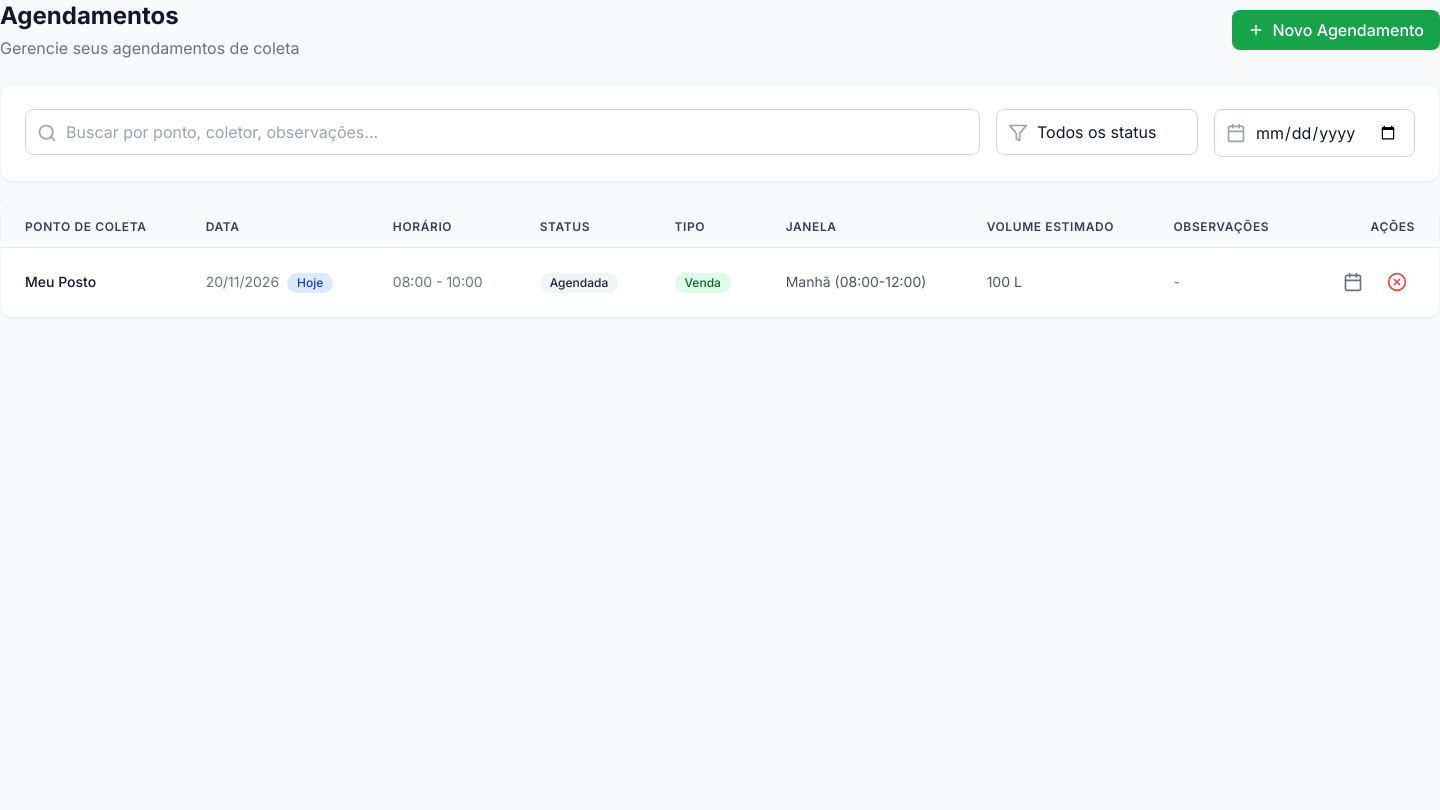
SchedulesPage › for ESTABLISHMENT role › shows saleType field for establishment
Click the button "Novo Agendamento": (1336, 30) [1232,10,1439,50]
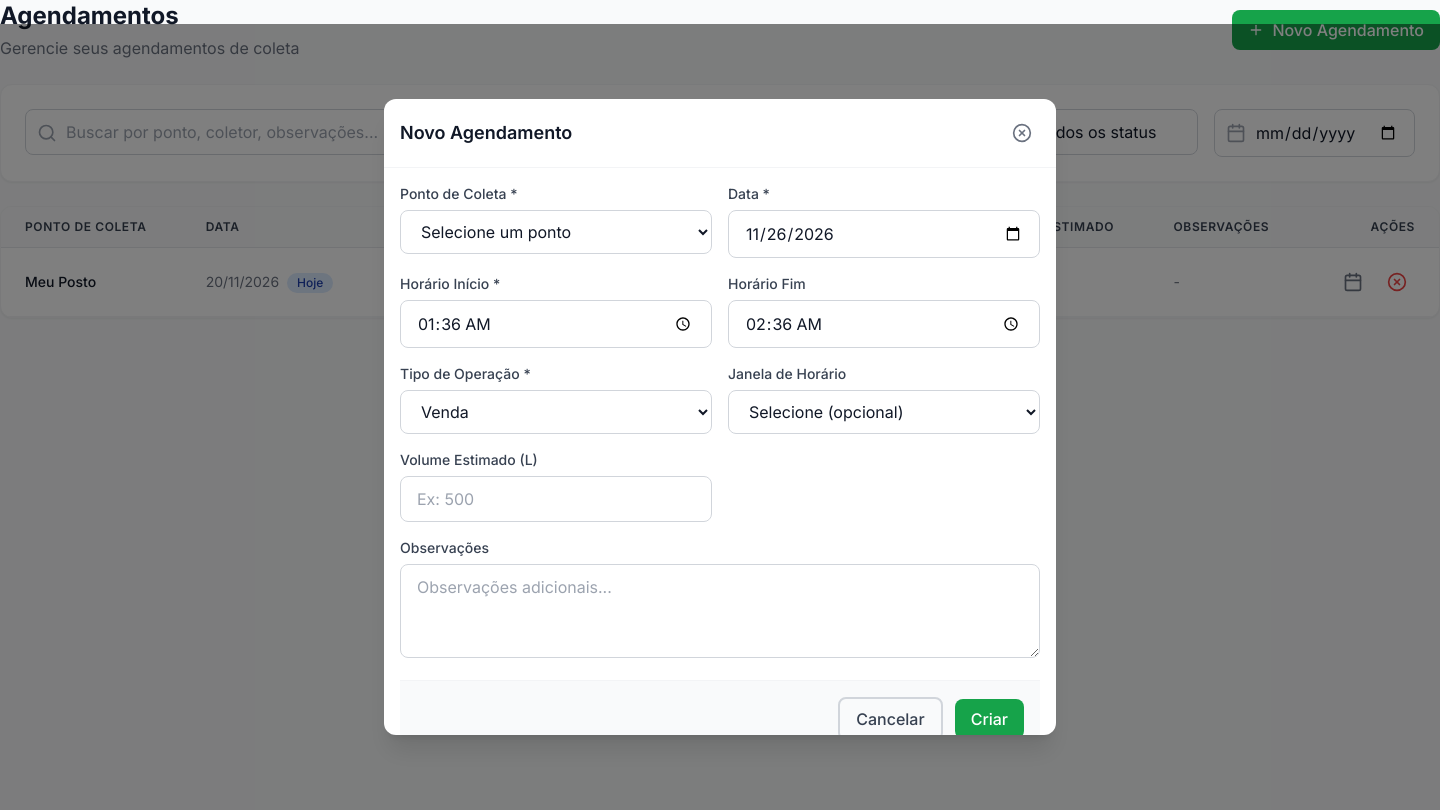
Result: the dropdown labelled "Tipo de Operação *" shows "Venda" at [400,390,712,434]
